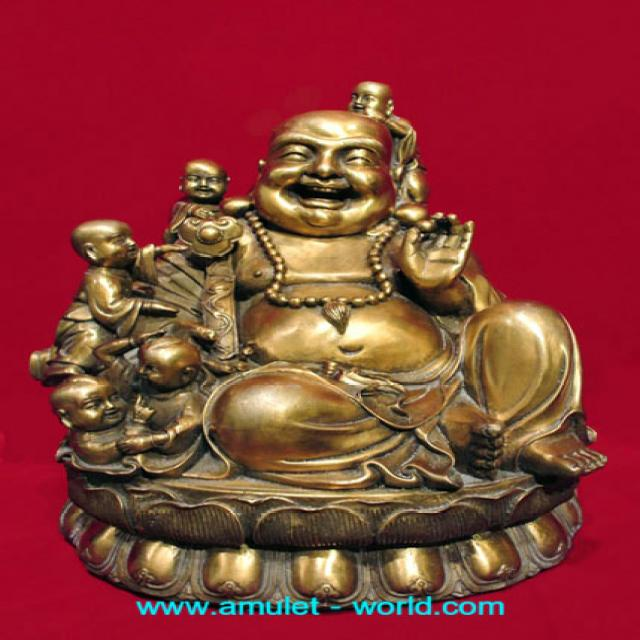Smiling Buddha: (172, 100, 504, 534)
